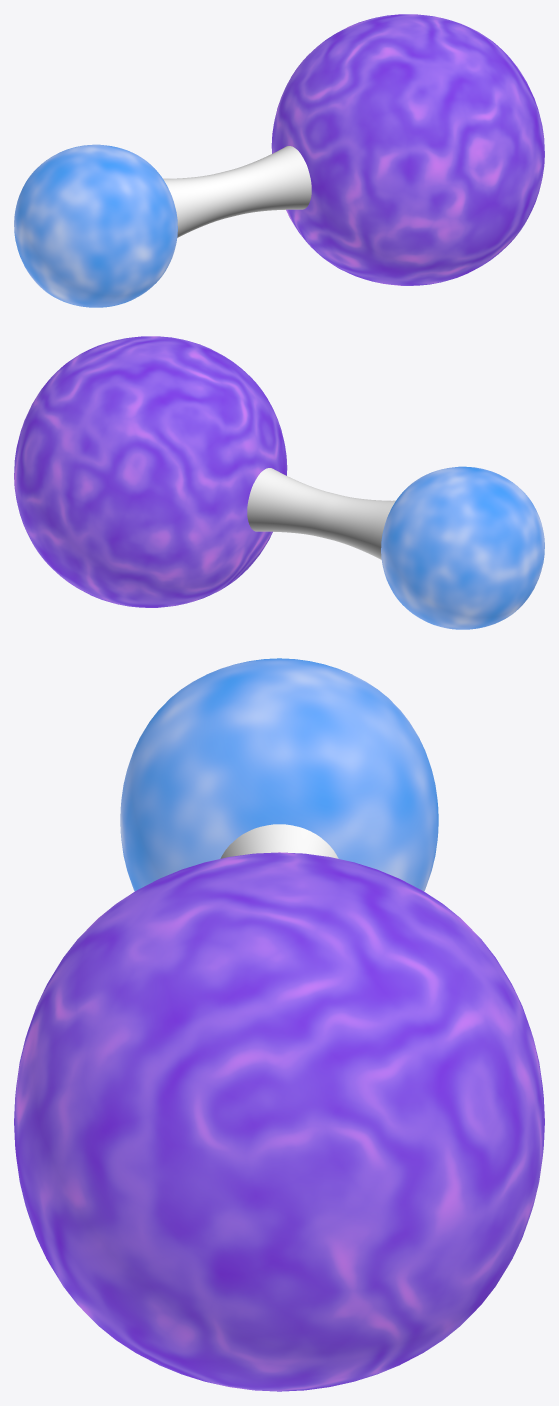
3 renders of one model, top to bottom at view 1: azimuth 30°, elevation 25°; view 2: azimuth 150°, elevation 25°; view 3: azimuth 270°, elevation 25°, orthographic. The views are drawn at different scales.
Visible parts, largest first — view 1: jednosytne_kyseliny; view 2: jednosytne_kyseliny; view 3: jednosytne_kyseliny.
Part boxes in pixels (box(x1,y1,x2,y2)): jednosytne_kyseliny: box(14, 14, 544, 307); jednosytne_kyseliny: box(14, 336, 544, 629); jednosytne_kyseliny: box(14, 658, 544, 1391).
Bounding box in the file's own units: 5.2 × 2.42 × 2.42.
3 materials, 2 textured.
